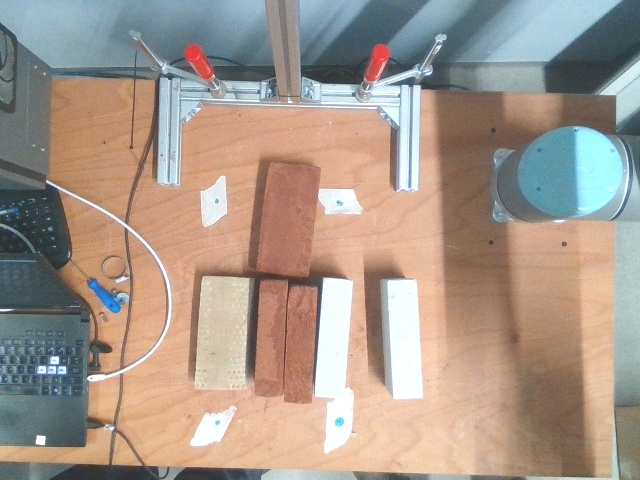brick: (259, 163, 319, 275), (195, 278, 251, 388)
brick-side: (315, 279, 351, 397), (251, 282, 286, 396), (280, 288, 315, 402), (388, 281, 420, 398)
